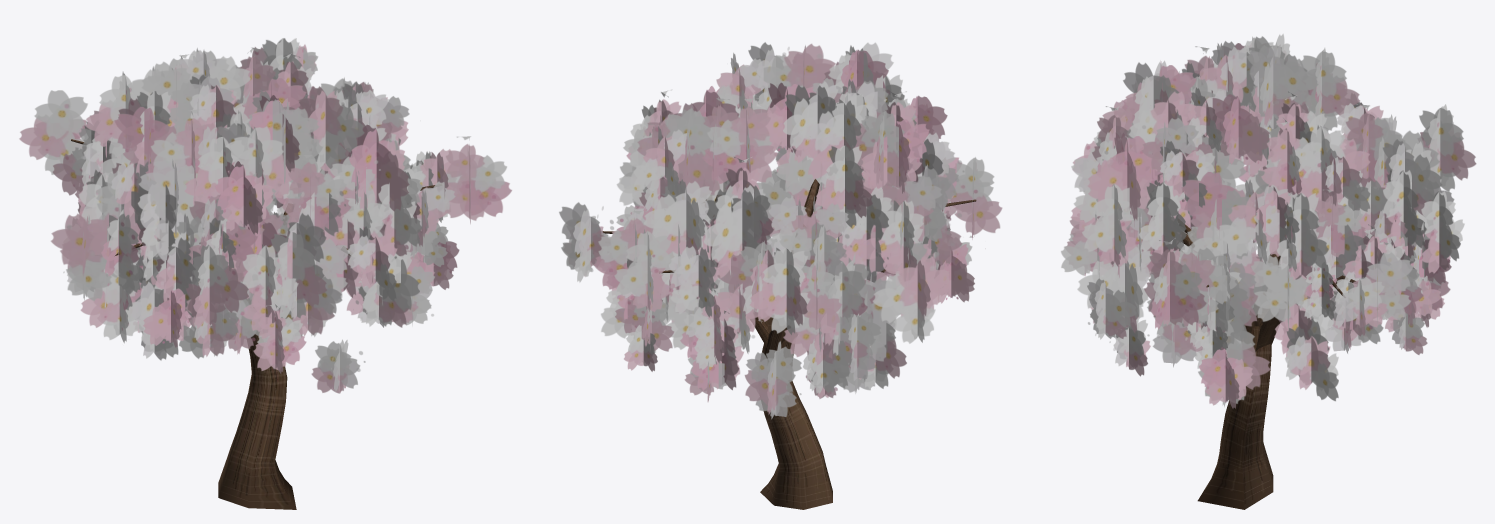
Rendered from cherry.glb.
3 renders of one model, left to right at view 1: azimuth 30°, elevation 25°; view 2: azimuth 150°, elevation 25°; view 3: azimuth 270°, elevation 25°, orthographic. The views are drawn at different scales.
Visible parts, largest first — view 1: cherry; view 2: cherry; view 3: cherry.
Part boxes in pixels (left/top/right/bottom): cherry: left=19, top=38, right=511, bottom=509; cherry: left=559, top=42, right=1002, bottom=509; cherry: left=1061, top=33, right=1476, bottom=509.
Size of the model in its own units: 6.11 by 6.57 by 5.92.
Materials: 2 (2 with a texture image).
